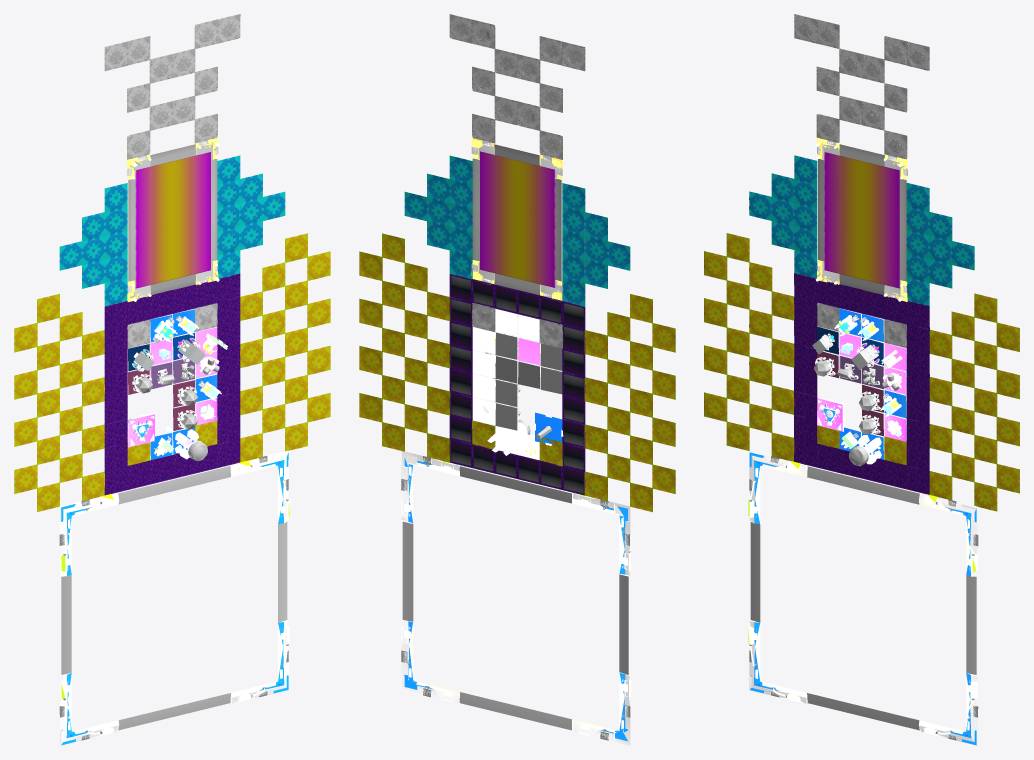
File: Parcel11_Baked.fbx
3 views of the same model, side by side, from view 1: azimuth 30°, elevation 25°; view 2: azimuth 150°, elevation 25°; view 3: azimuth 330°, elevation 25° (orthographic).
Parts seen in each view (by area): view 1: Parcel11_Baked; view 2: Parcel11_Baked; view 3: Parcel11_Baked.
Part boxes in pixels (x1,y1,x2,y2): Parcel11_Baked: [14, 14, 330, 745]; Parcel11_Baked: [359, 14, 675, 745]; Parcel11_Baked: [704, 14, 1019, 745].
Bounding box in the file's own units: 281 × 583 × 42.21.
1 material, 1 textured.
